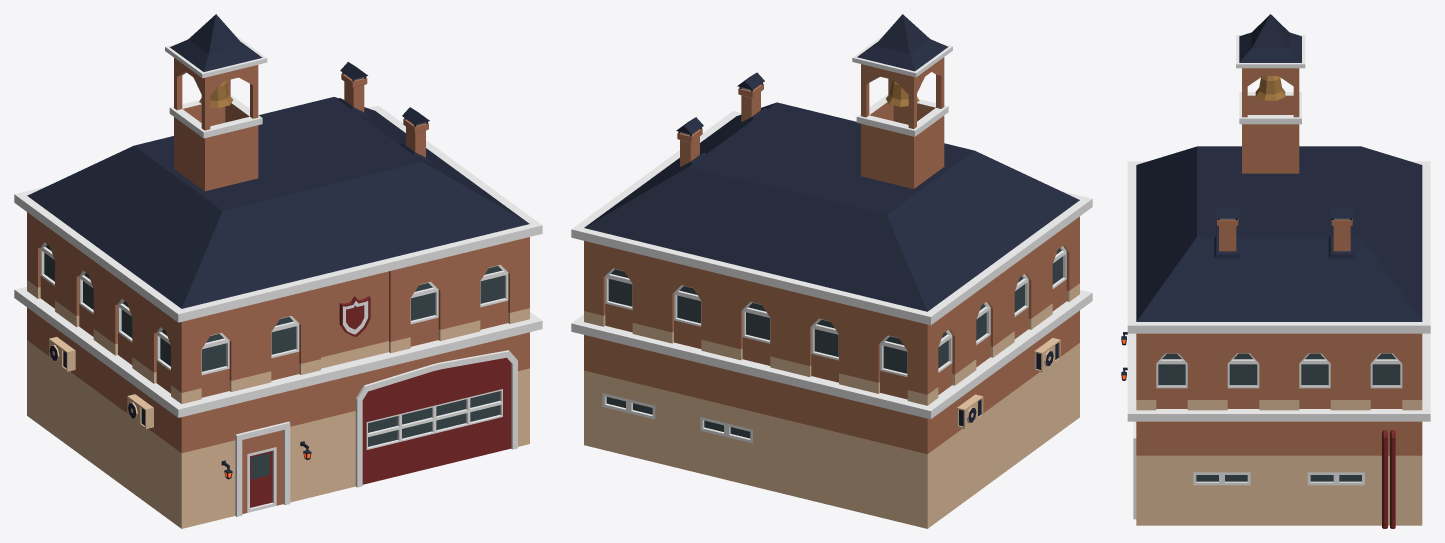
The model's file is buildings_building-firestation.fbx.
The picture shows the model from 3 angles, left to right: view 1: azimuth 30°, elevation 25°; view 2: azimuth 150°, elevation 25°; view 3: azimuth 270°, elevation 25°; orthographic projection. The views are drawn at different scales.
Parts seen in each view (by area): view 1: buildings_building_firestation; view 2: buildings_building_firestation; view 3: buildings_building_firestation.
Part boxes in pixels (x1,y1,x2,y2): buildings_building_firestation: (14, 14, 542, 528); buildings_building_firestation: (571, 14, 1092, 528); buildings_building_firestation: (1121, 14, 1430, 528).
Size of the model in its own units: 176 by 200 by 139.
